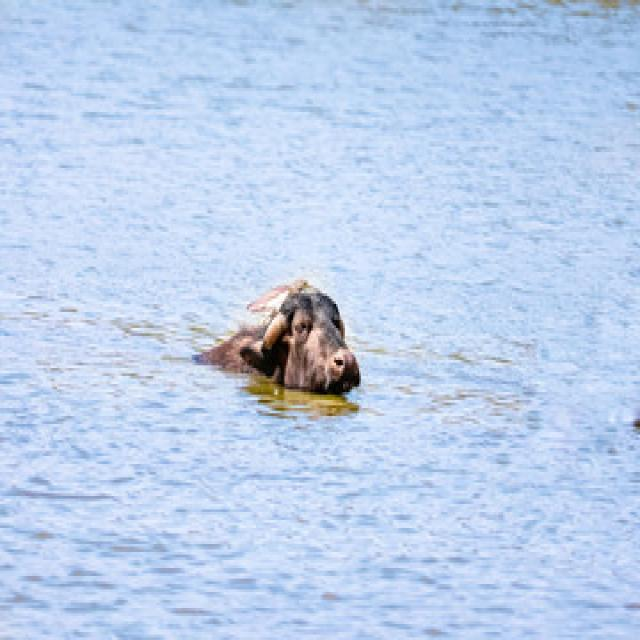Buffalo: (192, 275, 363, 397)
